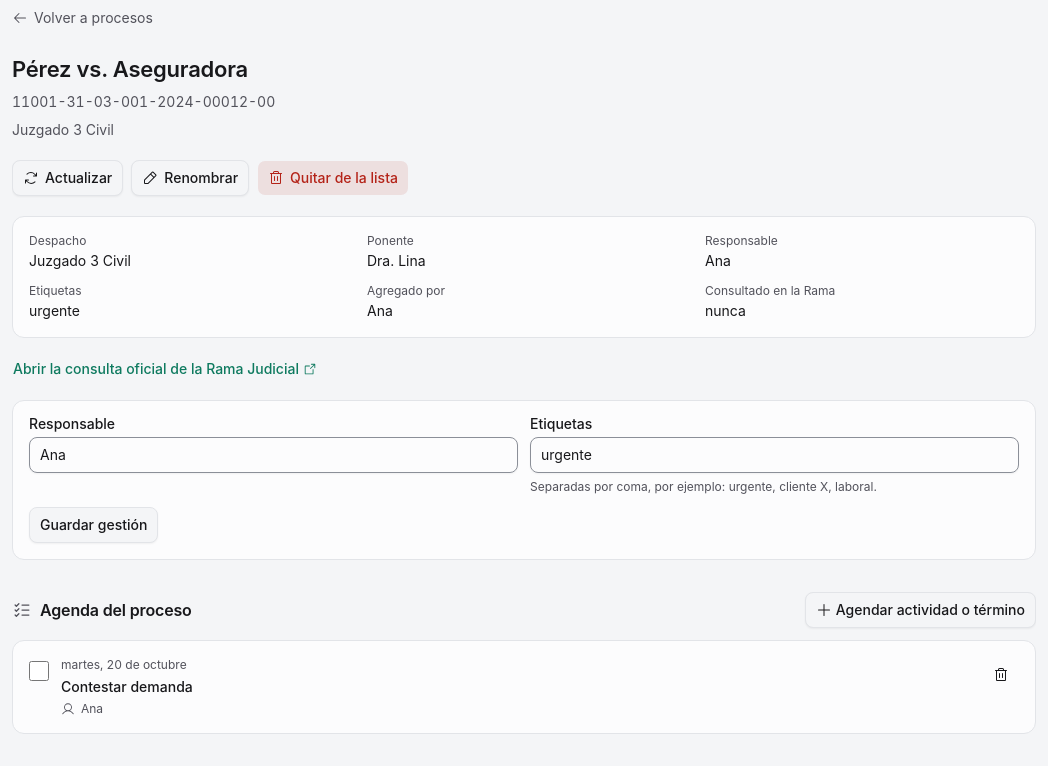
Test: VistaDetalle › alterna la tarea al tocar la fila, no solo la casilla
Expected: the checkbox named "Marcar como realizada: Contestar demanda" is shown, [29,660,49,680]
Note: La fila es etiqueta implicita de la casilla: el texto debe invertirla.
Click the text "Contestar demanda" at (127, 686), box [61,678,193,694]
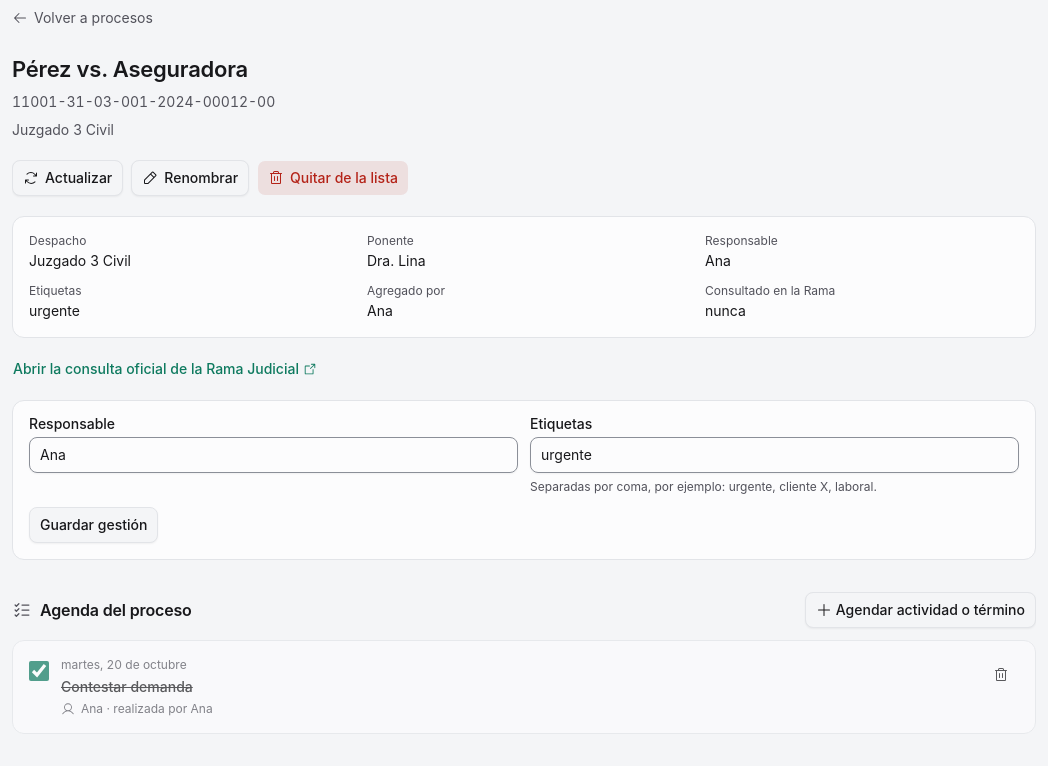
Result: the checkbox named "Marcar como realizada: Contestar demanda" is checked at [29,660,49,680]
